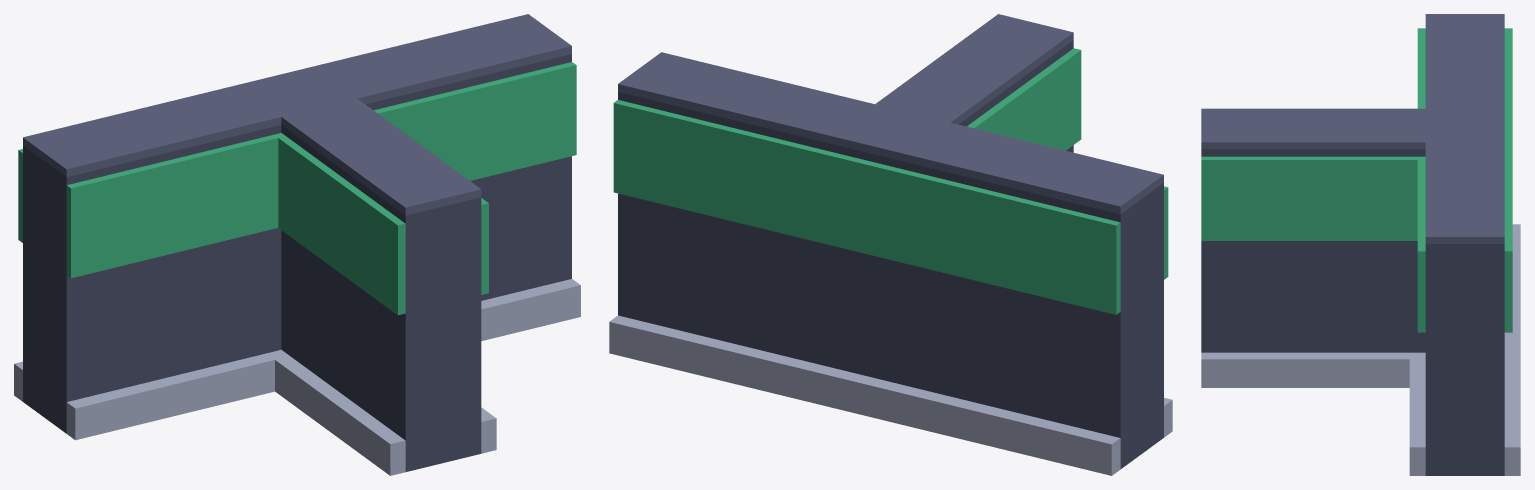
Rendered from partition-low-tee.glb.
3 views of the same model, side by side, from view 1: azimuth 30°, elevation 25°; view 2: azimuth 150°, elevation 25°; view 3: azimuth 270°, elevation 25° (orthographic). The views are drawn at different scales.
Visible parts, largest first — view 1: partition-low-tee; view 2: partition-low-tee; view 3: partition-low-tee.
Part boxes in pixels (bbox=[...]): partition-low-tee: bbox=[14, 14, 580, 475]; partition-low-tee: bbox=[609, 14, 1172, 475]; partition-low-tee: bbox=[1201, 14, 1520, 475].
Size of the model in its own units: 1 by 0.5 by 0.605.
1 material, 1 textured.
